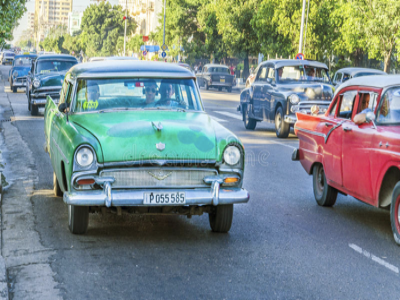licence: (142, 190, 188, 206)
